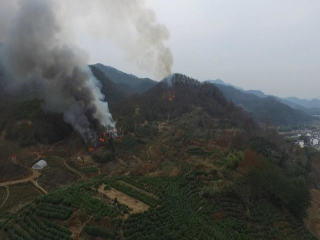smoke: (1, 11, 178, 152)
